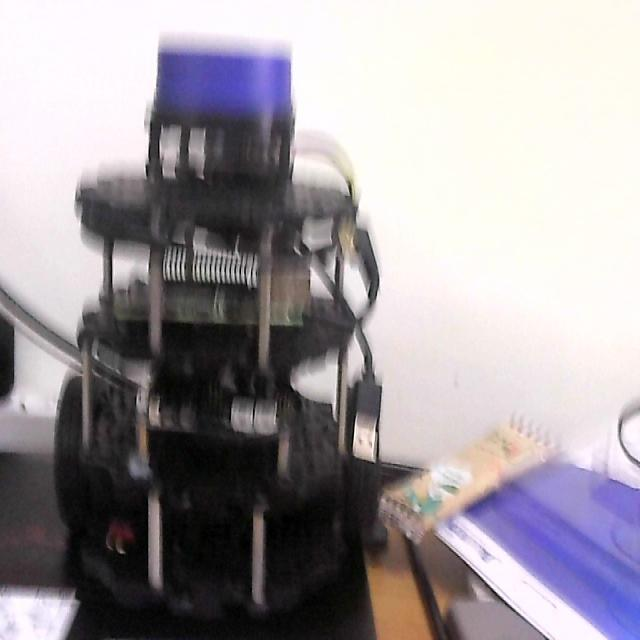turtle: (51, 42, 382, 640)
